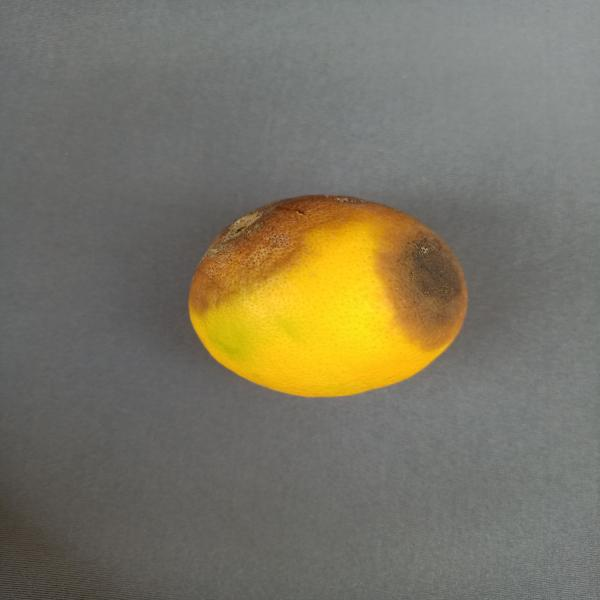Scab: (179, 181, 478, 406)
